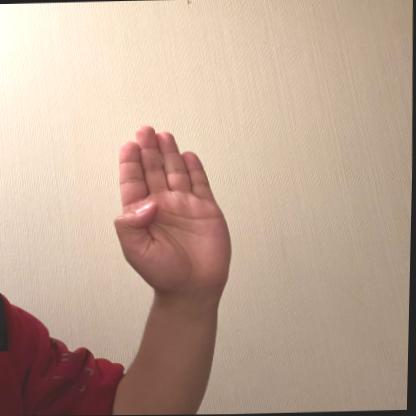B: (107, 122, 241, 296)
